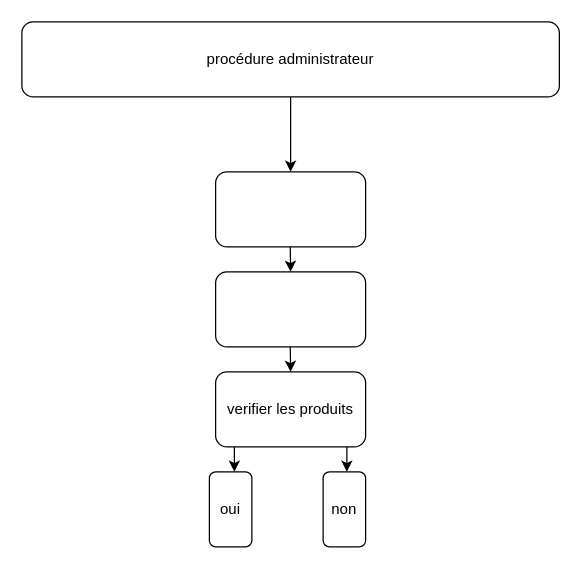
The diagram is 581 pixels wide and 569 high, and some of its shapes have lost their labels. The centre of each missing label's shape, as x and y in pixels:
"authentification" goes at point (290, 209).
"consulter les produits" goes at point (290, 309).
